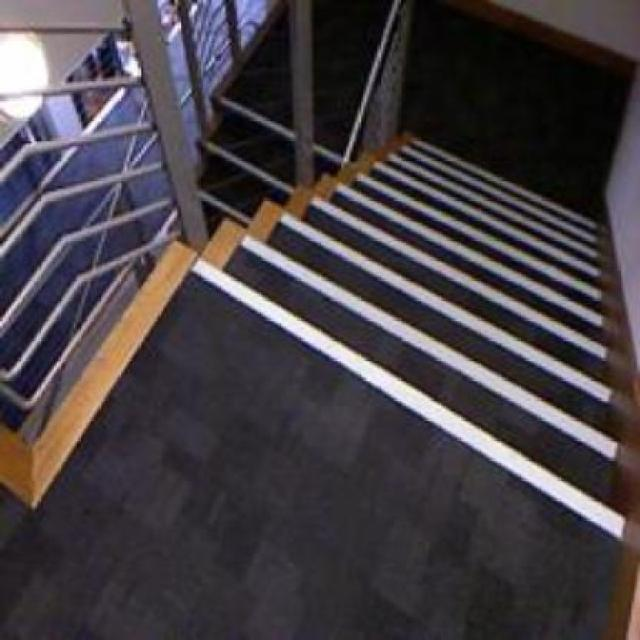stair: (189, 81, 640, 552)
